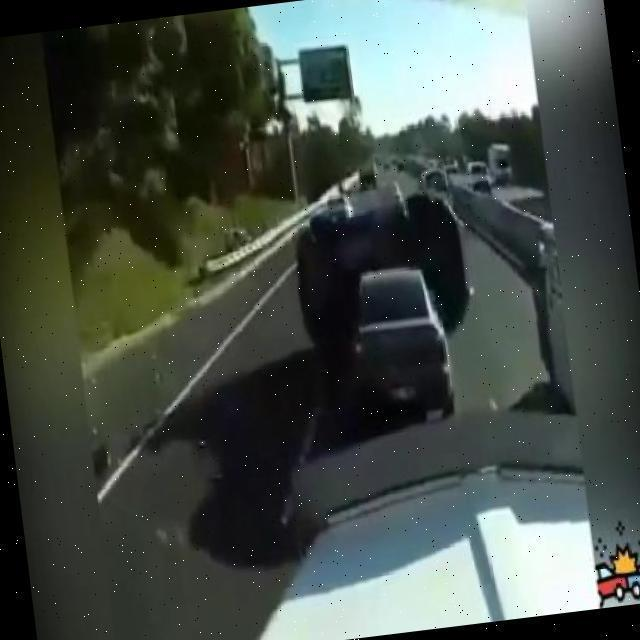accident: (276, 180, 519, 419)
